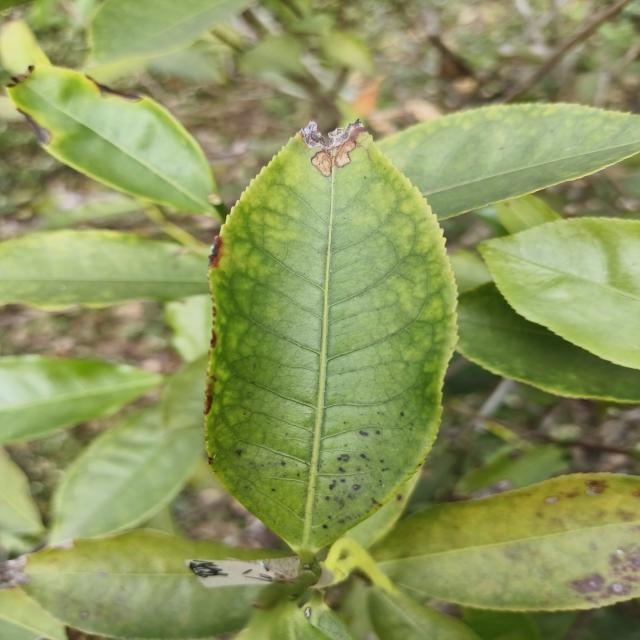Leaf: (206, 122, 456, 553), (370, 473, 640, 611), (7, 65, 223, 222), (378, 104, 640, 219), (17, 529, 281, 640), (479, 217, 640, 369), (457, 282, 640, 403), (49, 405, 204, 545), (0, 230, 208, 310), (0, 355, 162, 445), (89, 0, 251, 64), (0, 19, 51, 76)
